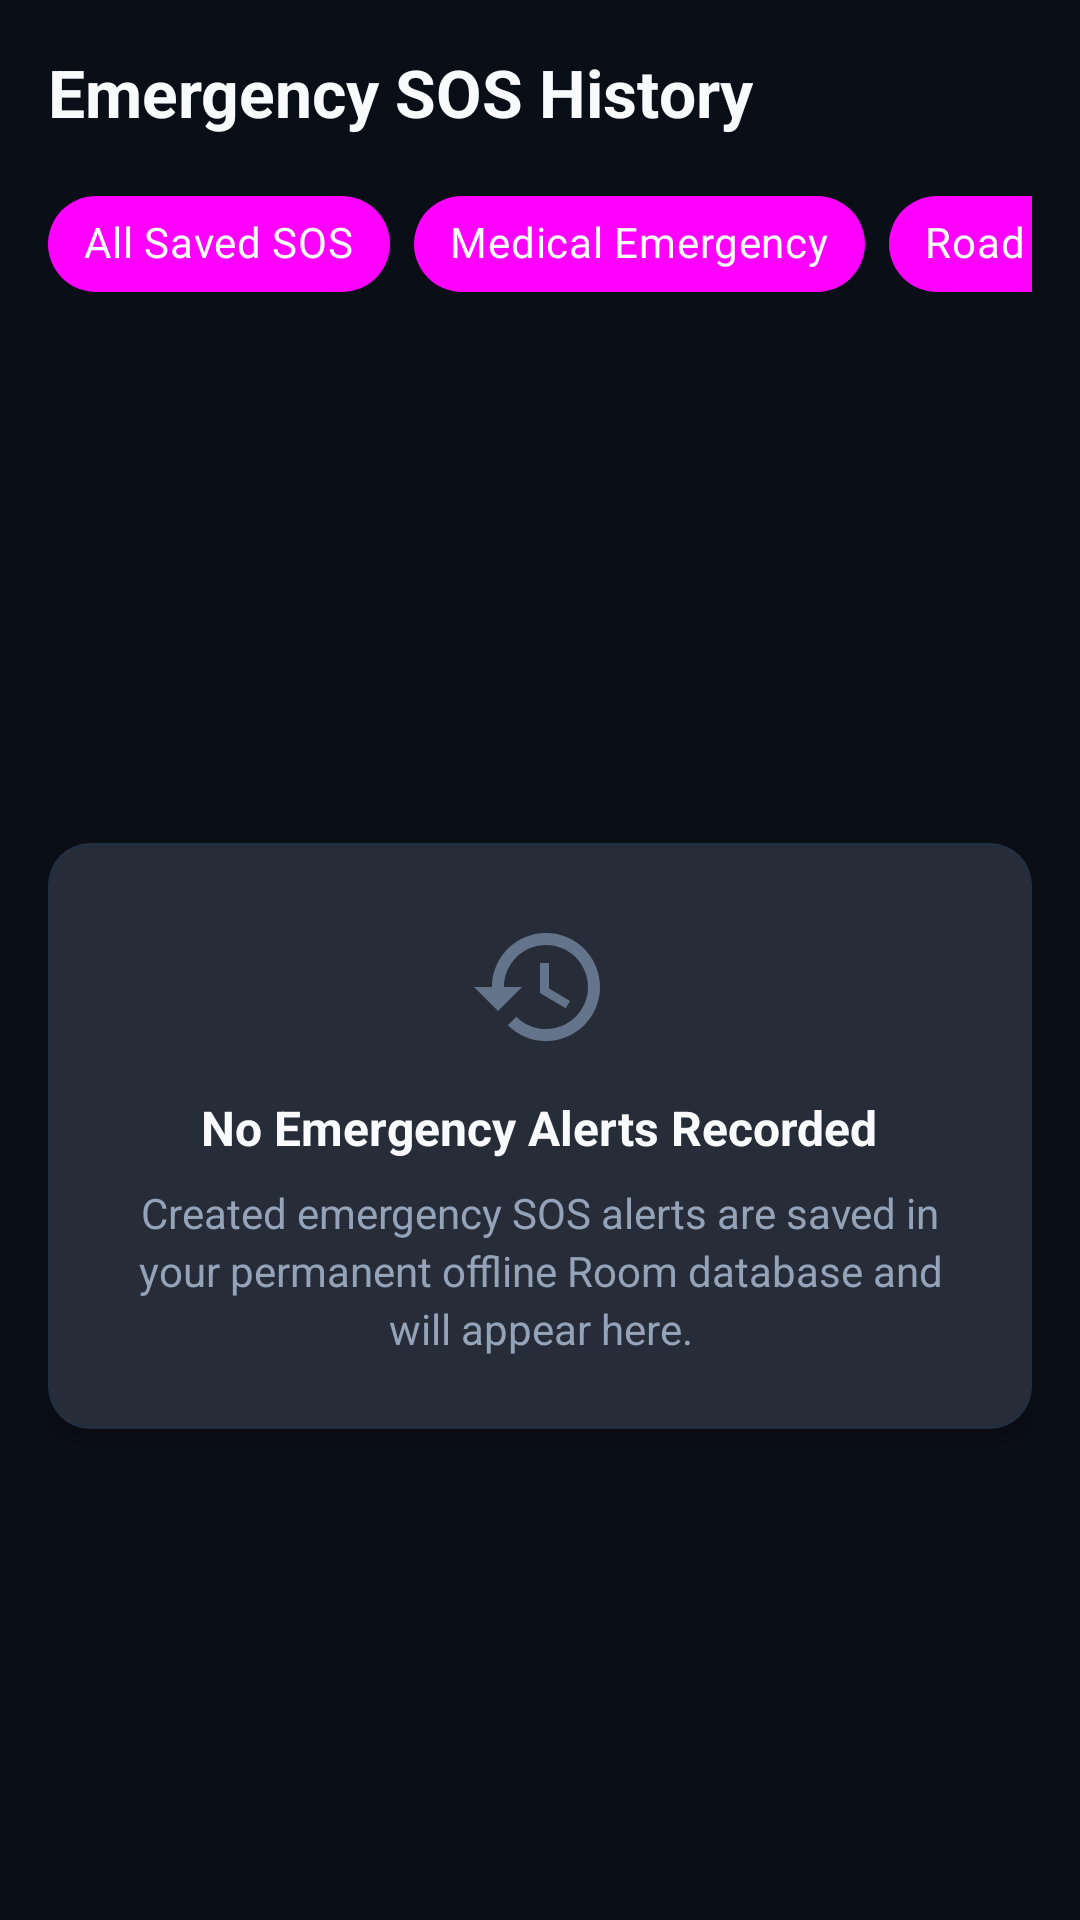

Icons on this 1080*1920 Android screen, each with its box as (x1, y1, x2, y2):
history: (474, 933, 600, 1041)
